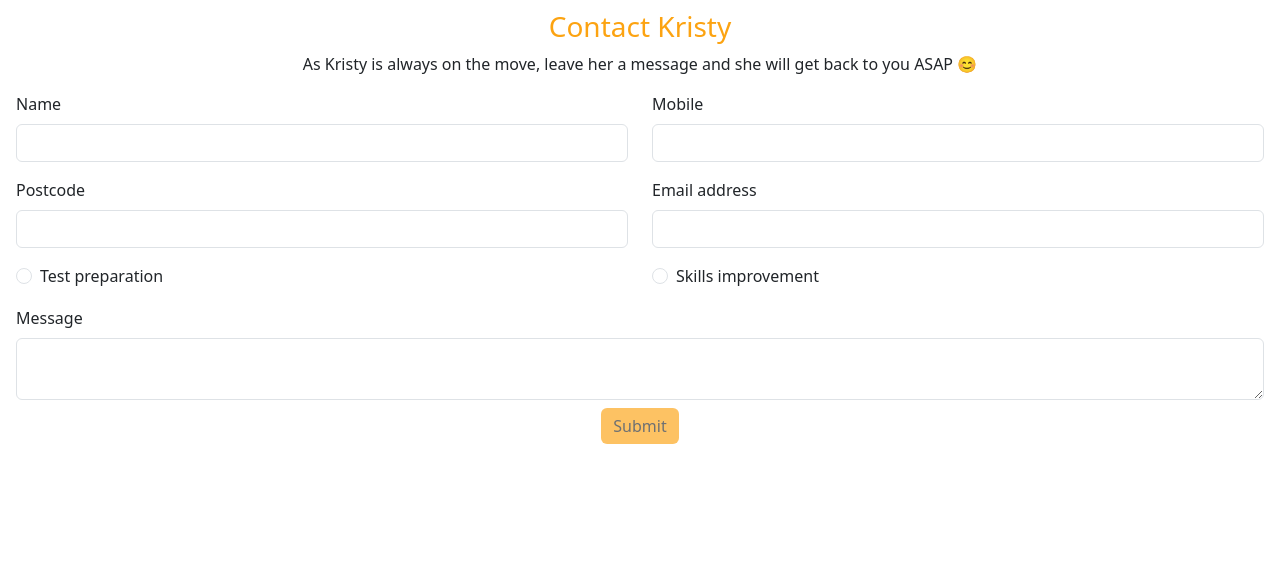
Scenario: EnqAddForm tests › renders ErrorDiv when mobile is empty after the add form has been touched
In the field labelled "Mobile": (958, 143) left=652, top=124, right=1264, bottom=162, type "07123456789"
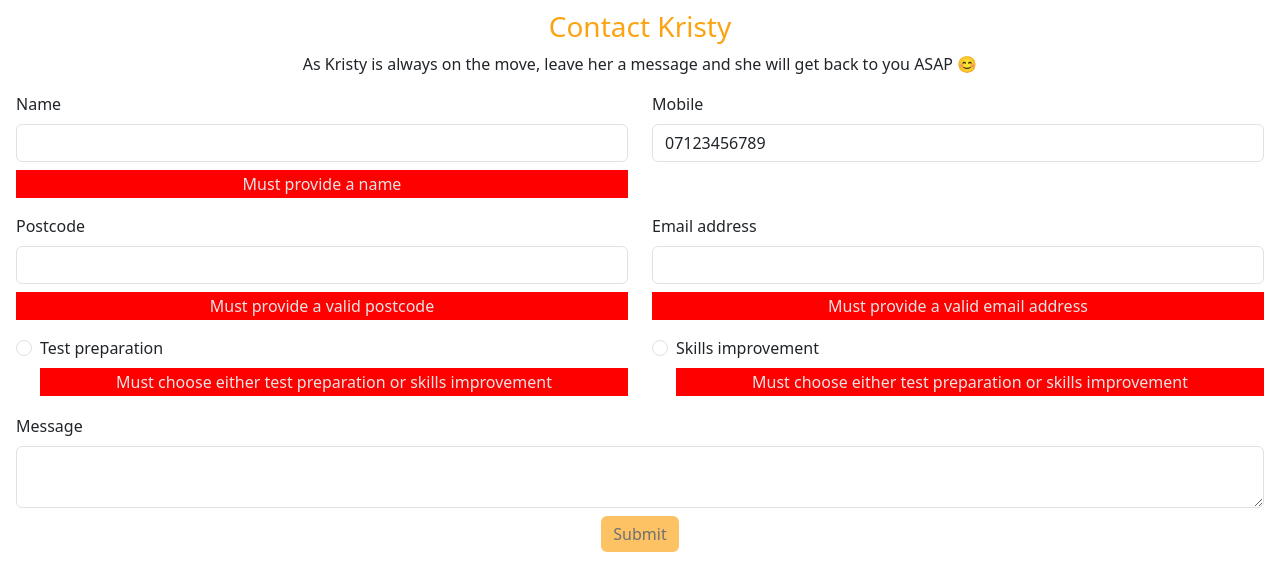
Clear the field labelled "Mobile": (958, 143) left=652, top=124, right=1264, bottom=162
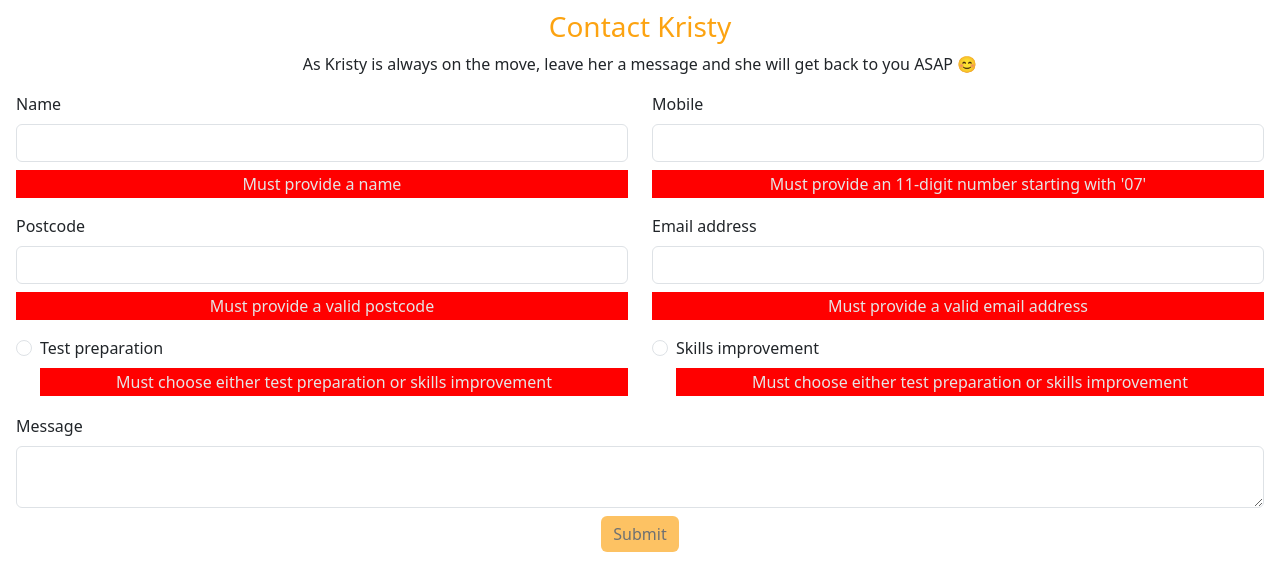
Result: the text "Must provide an 11-digit number starting with '07'" is shown at left=652, top=170, right=1264, bottom=198
